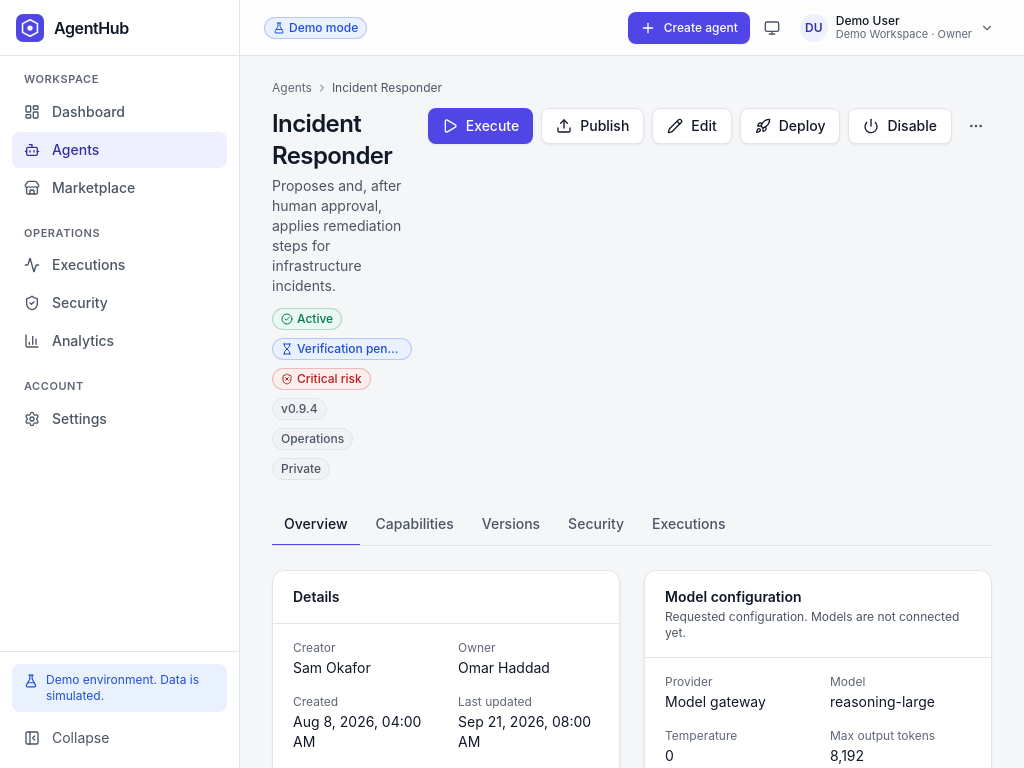
agent details › shows published versions and demo security data
Expected: the heading "Incident Responder" is shown, [272,108,412,172]
Click the tab "Versions". click: click(511, 525)
box: [470,504,552,546]
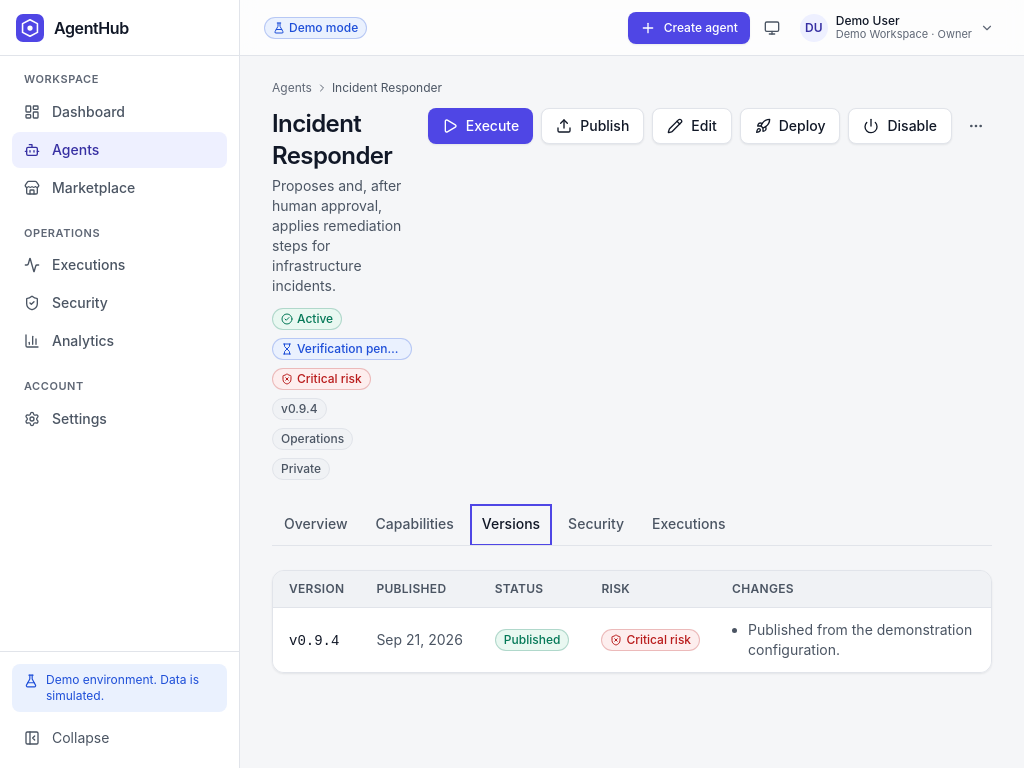
Result: the list item "Published from the demonstration configuration." is shown at [748,620,988,660]
Click the tab "Security". click: click(596, 525)
box: [556,504,636,546]
(page scrolled)
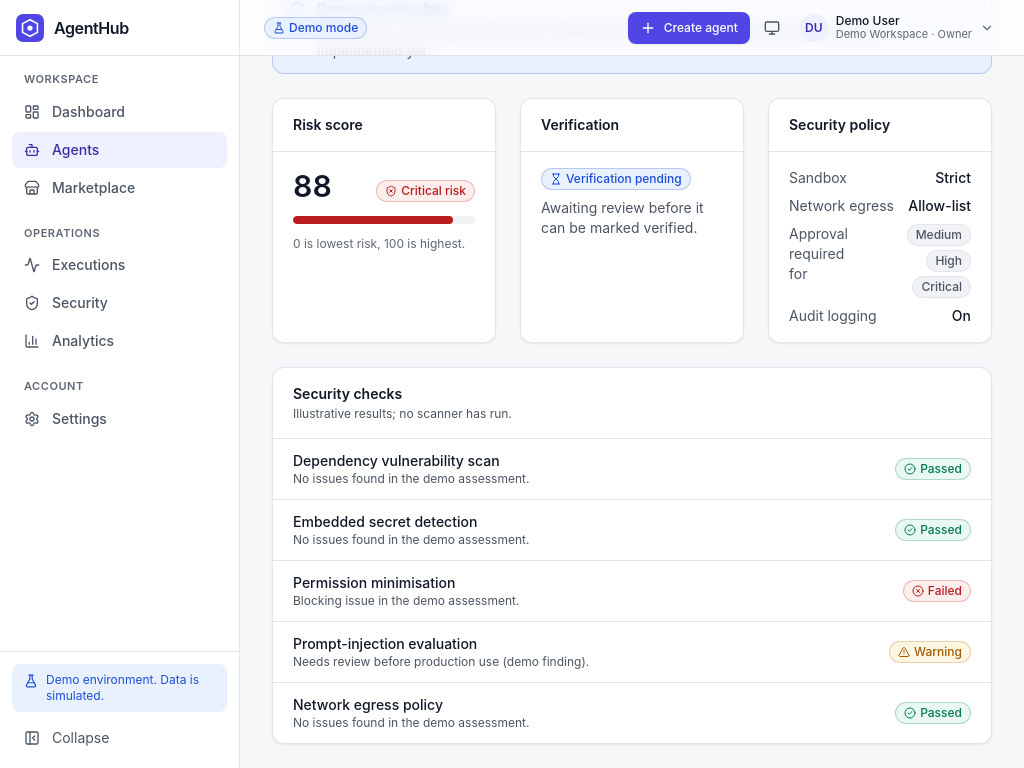
Expected: the text "Demo security data" is shown, [317,0,449,17]
Result: the text "Permission minimisation" is shown at [293,574,455,591]
